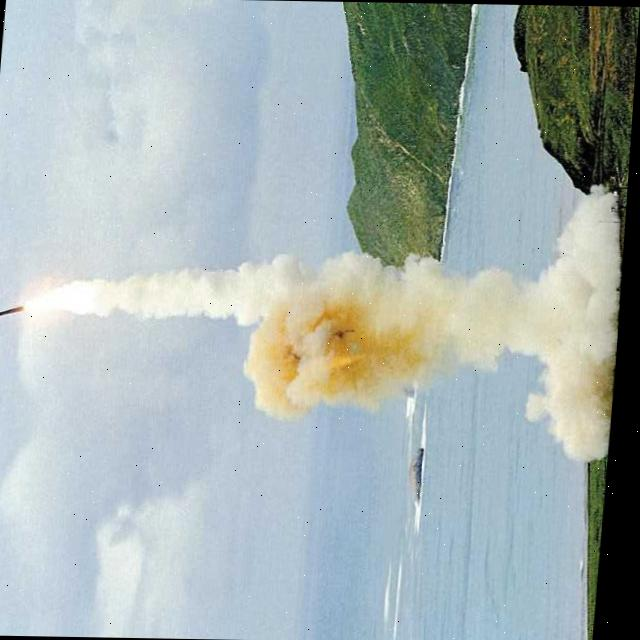missile: (0, 299, 28, 328)
